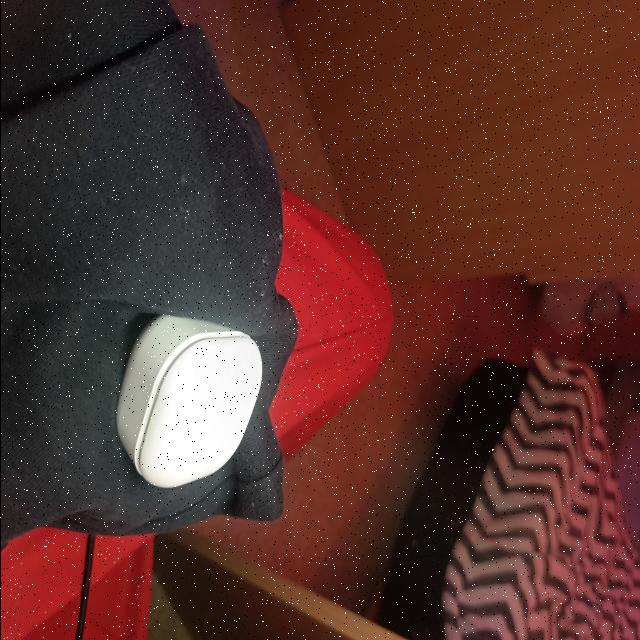headphones: (115, 315, 261, 488)
